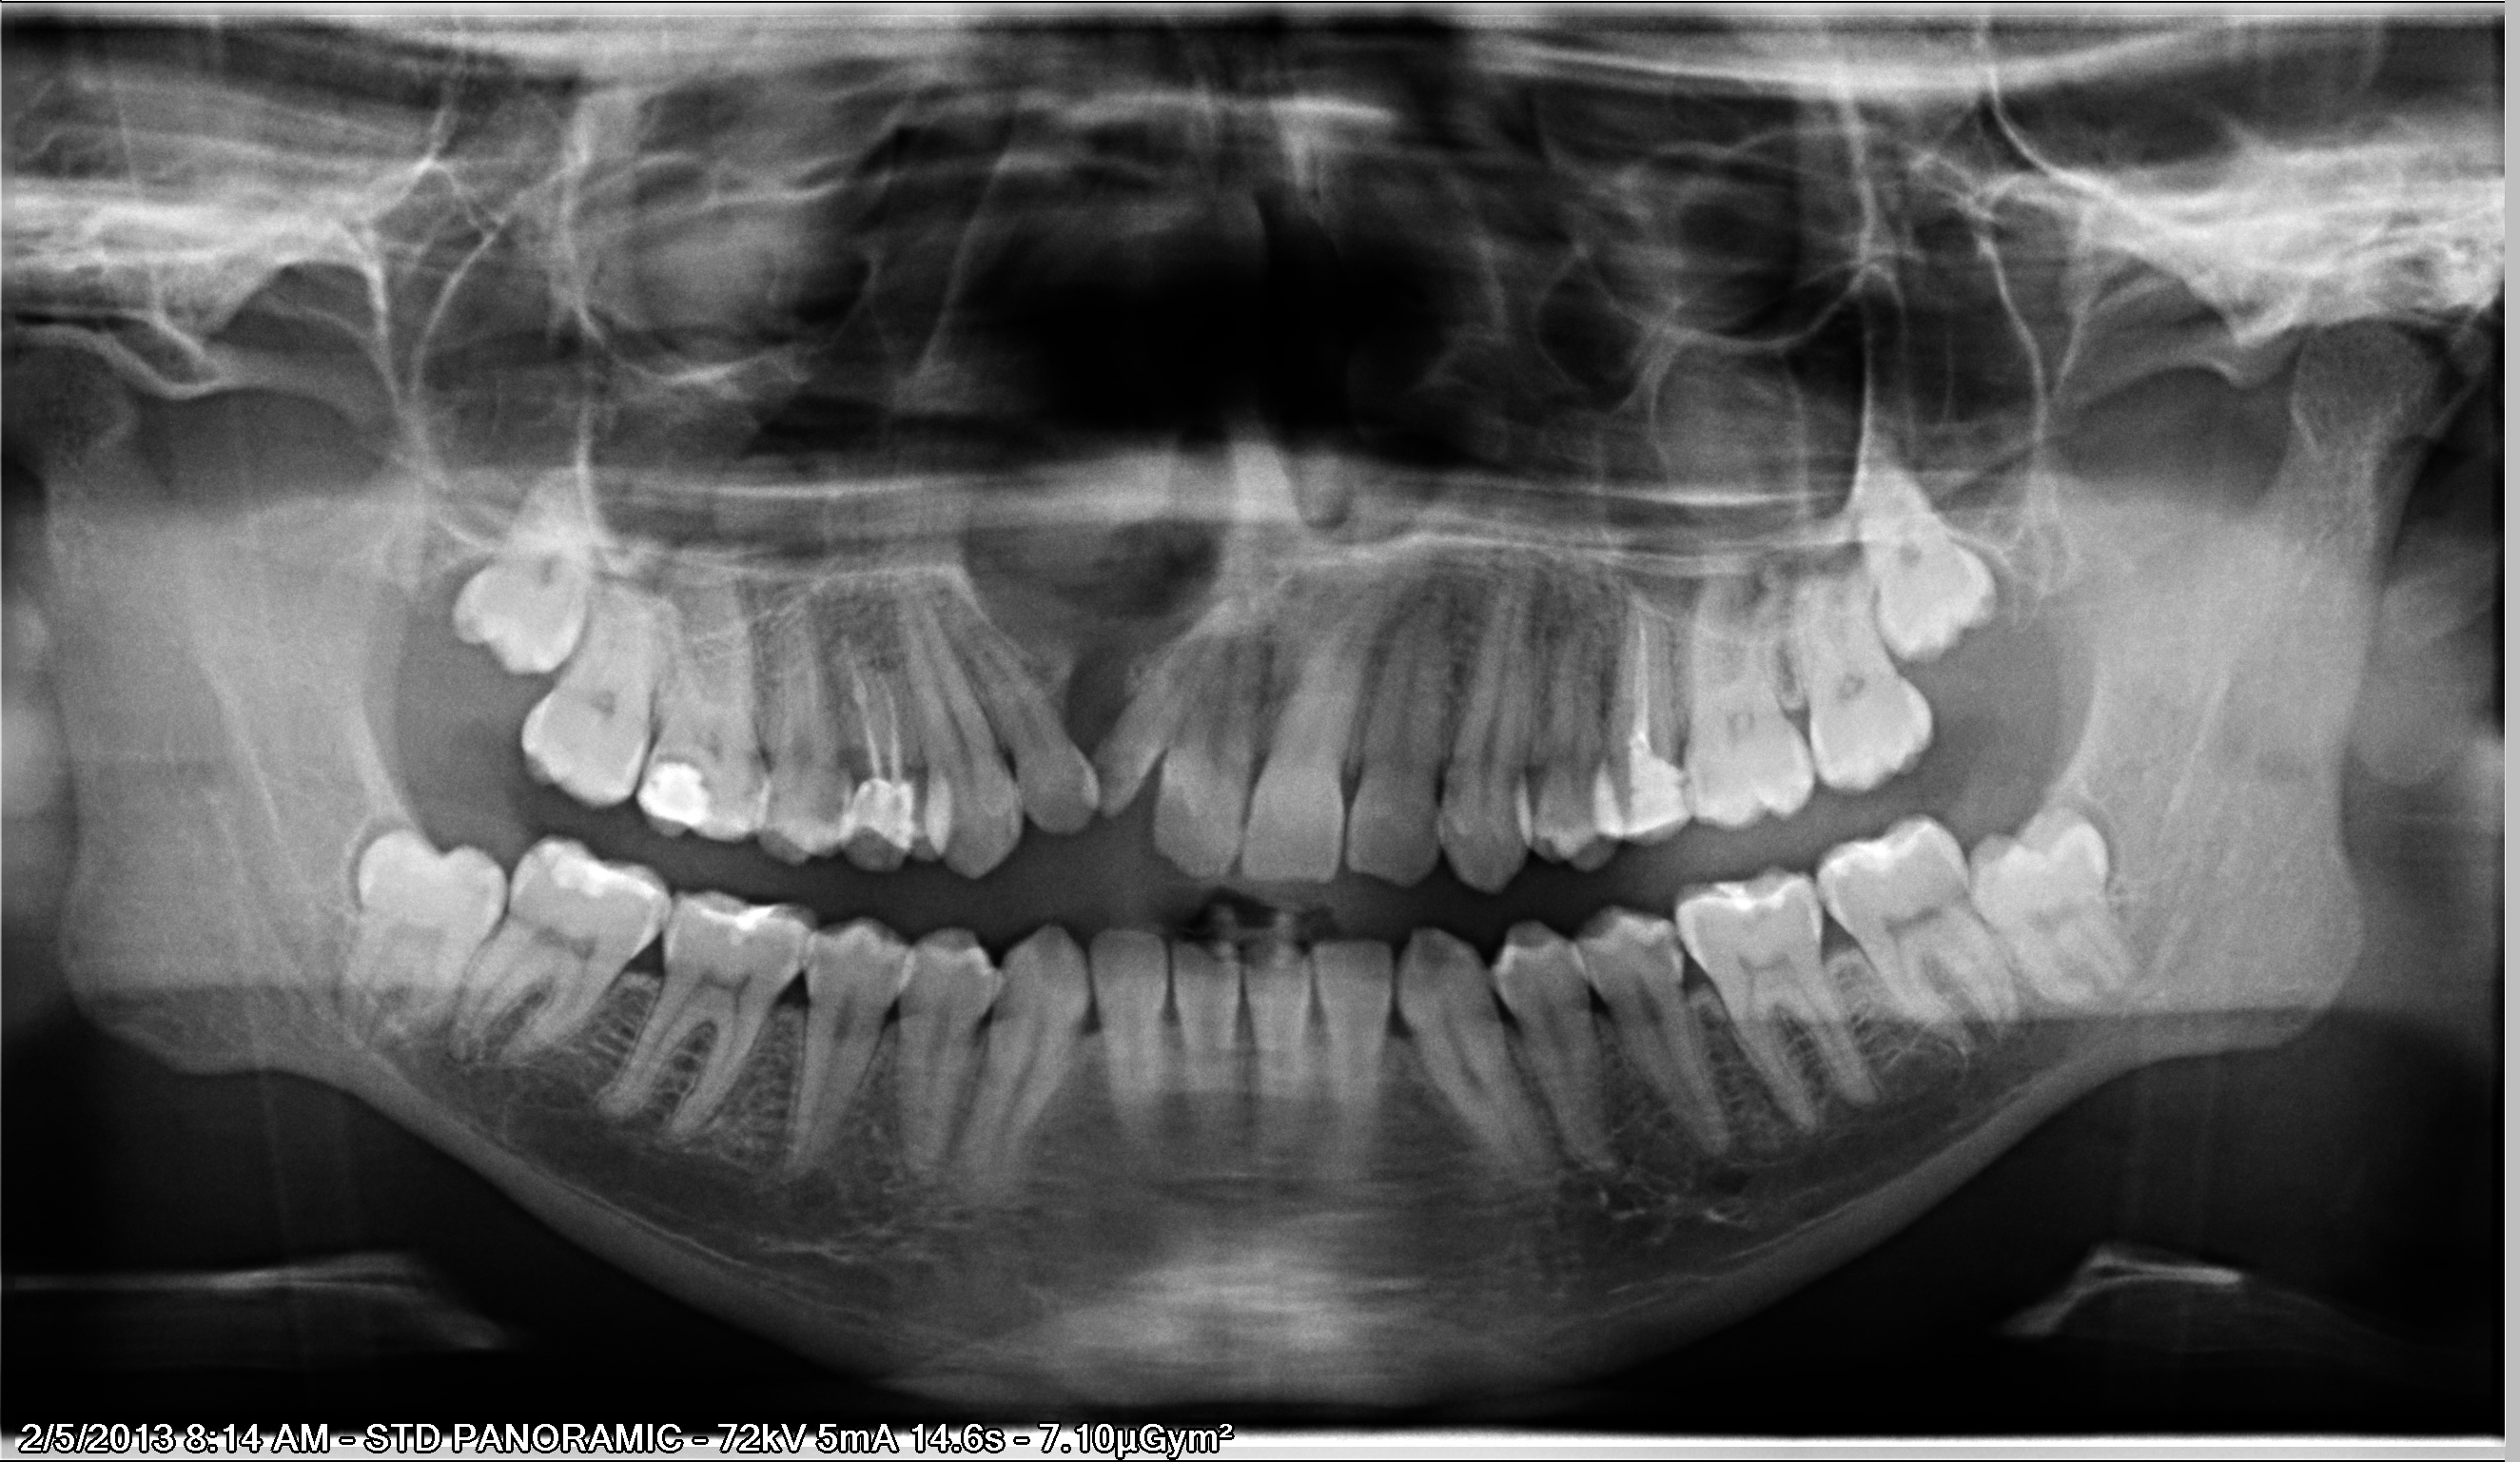CAR: (710, 731, 787, 802), (616, 889, 703, 947), (1622, 924, 1699, 980), (654, 734, 722, 785)
END: (827, 614, 914, 778), (1606, 597, 1676, 752)
IMT: (357, 440, 644, 698), (285, 816, 538, 1063), (1822, 440, 2031, 679), (1942, 783, 2142, 1025)
OBT: (1594, 747, 1706, 855), (823, 768, 924, 886), (616, 752, 731, 842), (534, 815, 633, 910), (689, 881, 806, 954), (1695, 860, 1801, 936)
